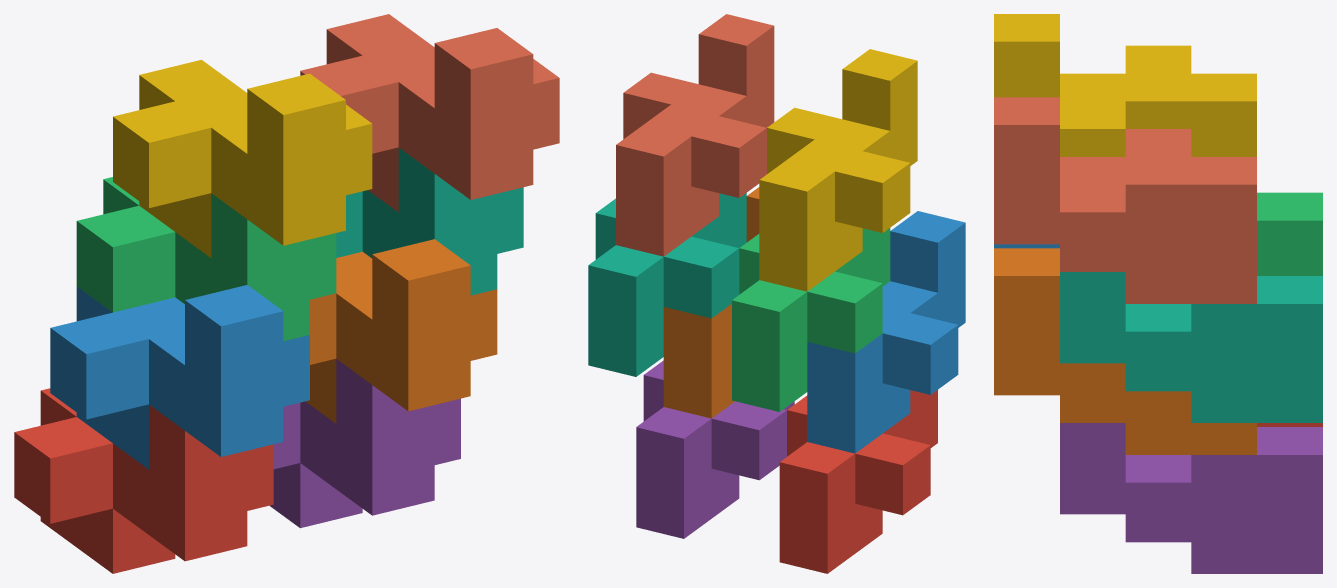
Rendered from tiling.obj.
3 renders of one model, left to right at view 1: azimuth 30°, elevation 25°; view 2: azimuth 150°, elevation 25°; view 3: azimuth 270°, elevation 25°, orthographic. The views are drawn at different scales.
Visible parts, largest first — view 1: copy_1_domain_4, copy_1_domain_2, copy_1_domain_8, copy_1_domain_1, copy_1_domain_6, copy_1_domain_3, copy_1_domain_5, copy_1_domain_7; view 2: copy_1_domain_4, copy_1_domain_8, copy_1_domain_2, copy_1_domain_1, copy_1_domain_3, copy_1_domain_7, copy_1_domain_5, copy_1_domain_6; view 3: copy_1_domain_8, copy_1_domain_5, copy_1_domain_7, copy_1_domain_4, copy_1_domain_6, copy_1_domain_3.
Part boxes in pixels (x1=…): copy_1_domain_4: x1=113, y1=59, x2=372, y2=257; copy_1_domain_2: x1=50, y1=285, x2=309, y2=469; copy_1_domain_8: x1=300, y1=14, x2=559, y2=212; copy_1_domain_1: x1=14, y1=388, x2=273, y2=573; copy_1_domain_6: x1=306, y1=239, x2=497, y2=423; copy_1_domain_3: x1=76, y1=177, x2=336, y2=341; copy_1_domain_5: x1=270, y1=359, x2=460, y2=528; copy_1_domain_7: x1=336, y1=147, x2=523, y2=295; copy_1_domain_4: x1=759, y1=49, x2=917, y2=291; copy_1_domain_8: x1=616, y1=14, x2=774, y2=256; copy_1_domain_2: x1=807, y1=211, x2=965, y2=453; copy_1_domain_1: x1=779, y1=390, x2=937, y2=573; copy_1_domain_3: x1=732, y1=228, x2=890, y2=411; copy_1_domain_7: x1=588, y1=193, x2=746, y2=376; copy_1_domain_5: x1=636, y1=360, x2=794, y2=538; copy_1_domain_6: x1=663, y1=187, x2=759, y2=418; copy_1_domain_8: x1=994, y1=97, x2=1256, y2=303; copy_1_domain_5: x1=1060, y1=423, x2=1322, y2=573; copy_1_domain_7: x1=1060, y1=272, x2=1322, y2=422; copy_1_domain_4: x1=994, y1=14, x2=1256, y2=156; copy_1_domain_6: x1=994, y1=248, x2=1256, y2=454; copy_1_domain_3: x1=1257, y1=192, x2=1322, y2=275.
Size of the model in its own units: 7 by 8 by 5.
